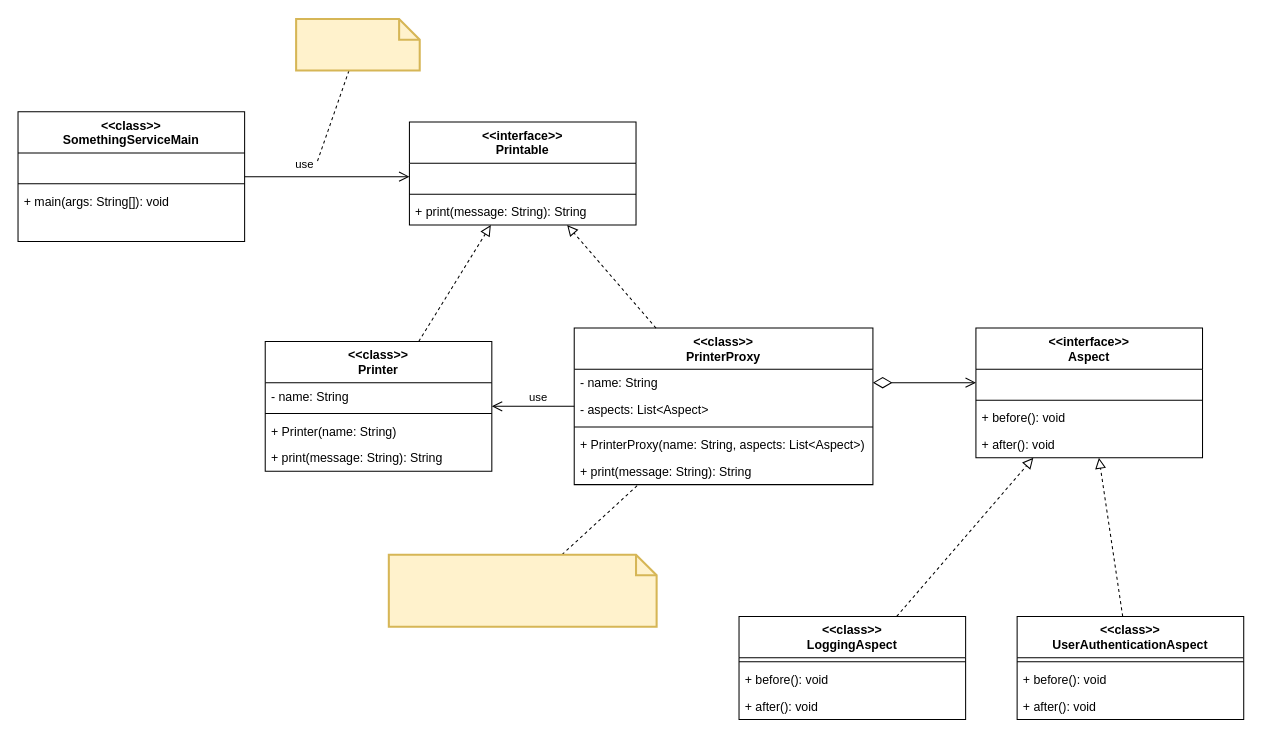
This 1262x740 diagram has some shape labels left out. Each missing label, with the centre of its shape:
"print() 에서 Printer.print() 호출 전 후로 aspect 메소드 before()와 after() 실행. 순서는 리스트 순서대로" belongs at (x=522, y=590).
"proxy객체를 사용" belongs at (x=357, y=44).
